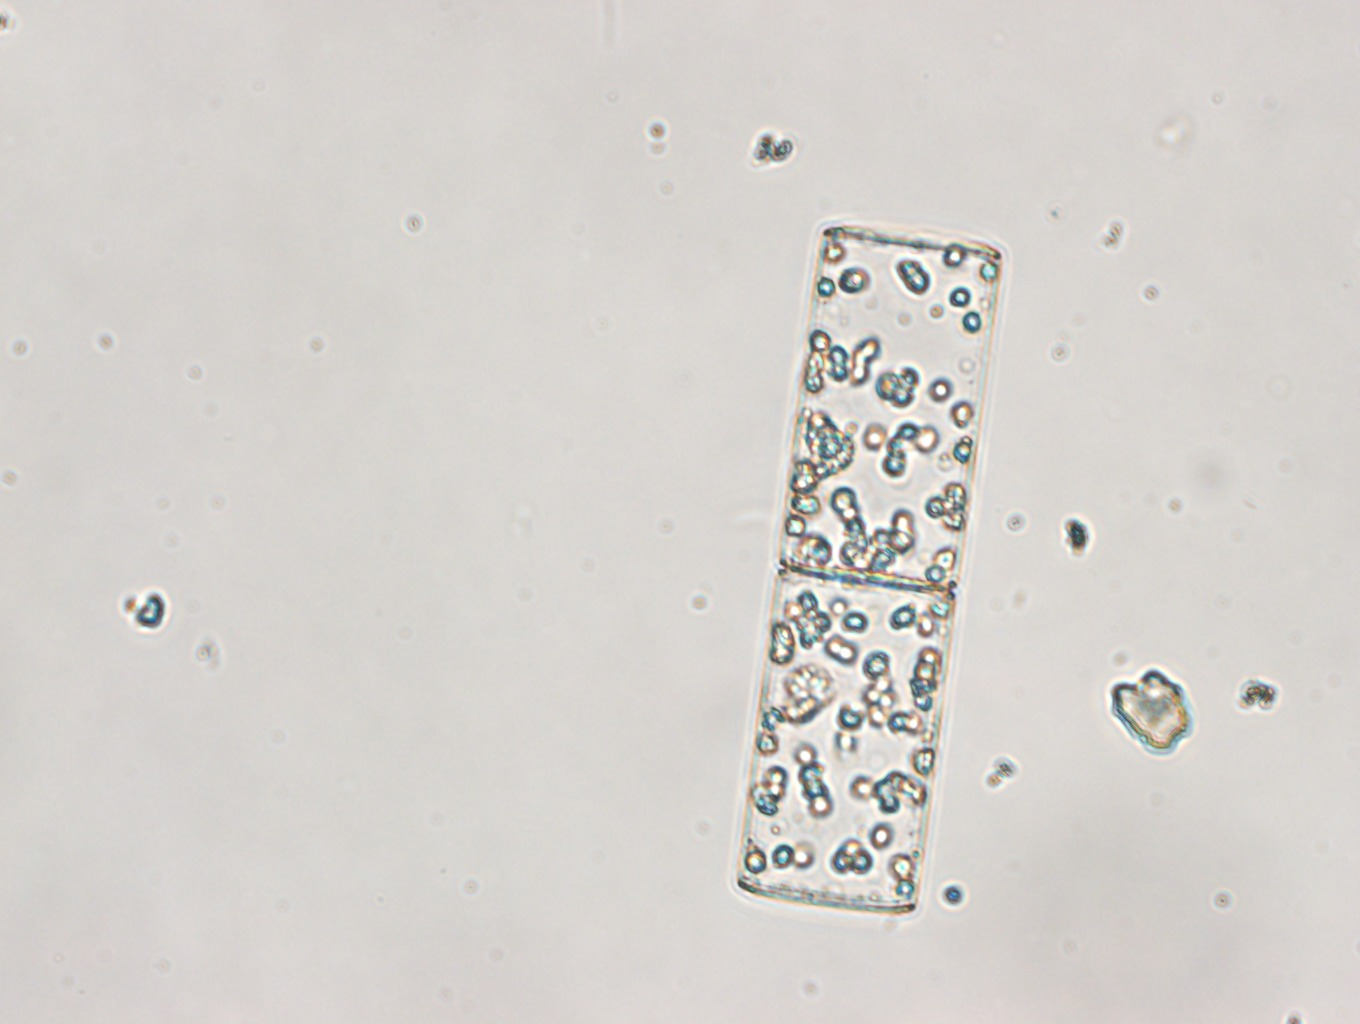guinardia flaccida: (735, 227, 1002, 913)
